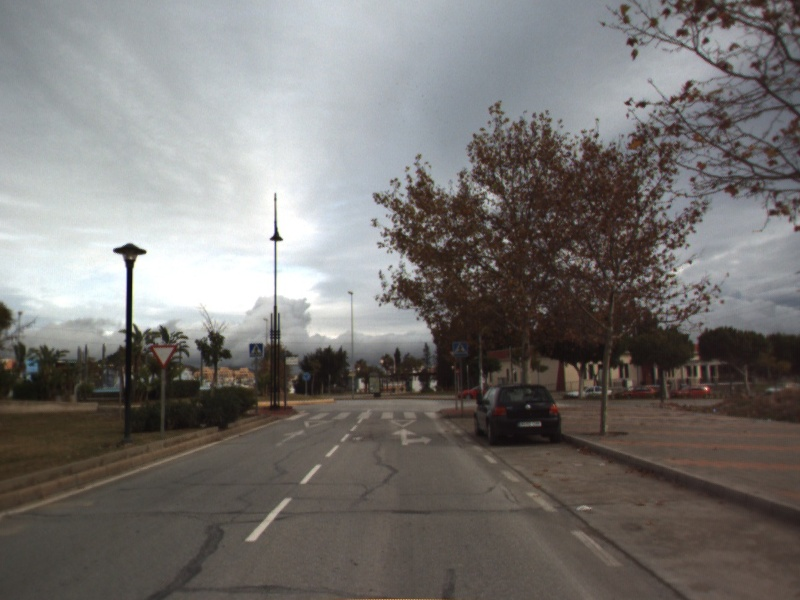STRAIGHT: (273, 426, 310, 449)
STRAIGHT_RIGHT: (389, 426, 434, 447)
